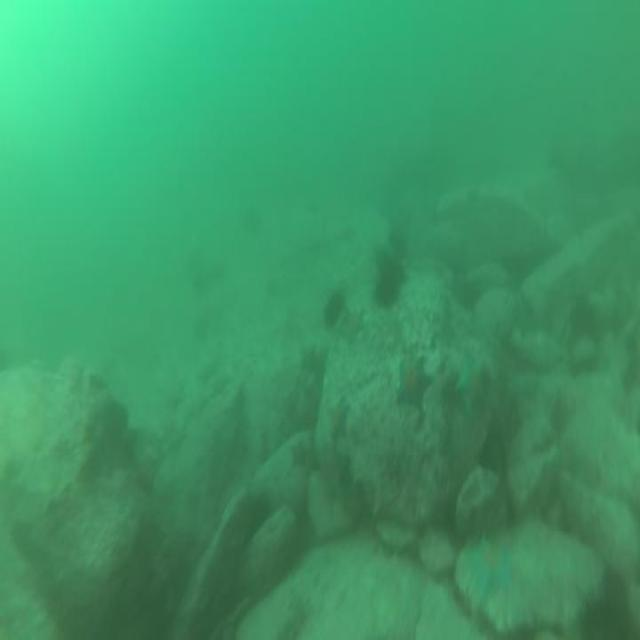echinus: (564, 294, 604, 348), (322, 283, 349, 332), (380, 247, 407, 289), (372, 267, 398, 310)
starfish: (394, 351, 436, 417), (333, 305, 367, 351), (325, 396, 354, 446), (289, 436, 318, 473)
